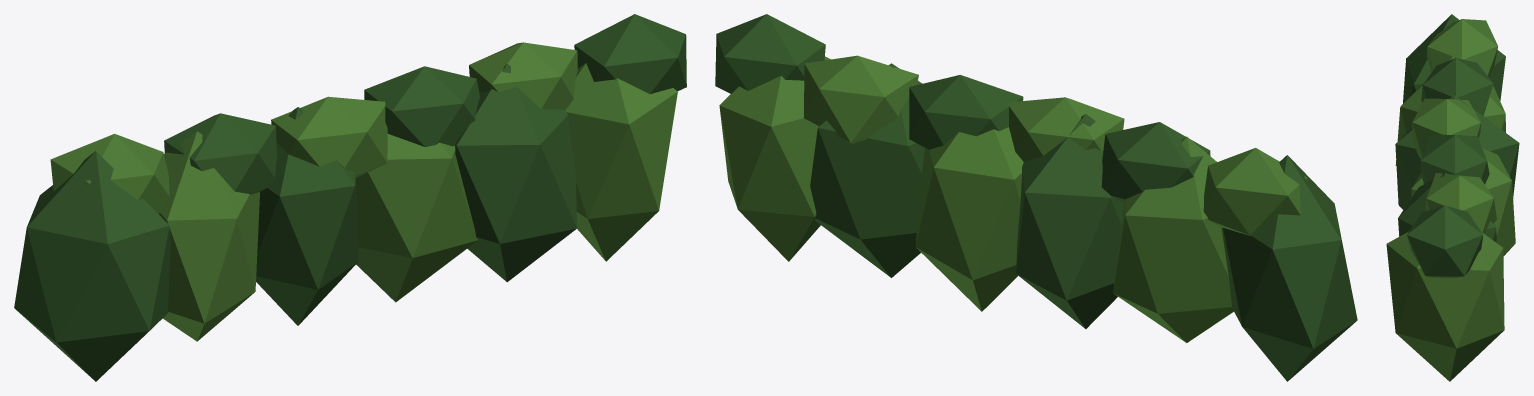
Rendered from UM_Hecke_4m.fbx.
The picture shows the model from 3 angles, left to right: view 1: azimuth 30°, elevation 25°; view 2: azimuth 150°, elevation 25°; view 3: azimuth 270°, elevation 25°; orthographic projection. The views are drawn at different scales.
Parts seen in each view (by area): view 1: UM_Hecke_4m; view 2: UM_Hecke_4m; view 3: UM_Hecke_4m.
Part boxes in pixels (box(x1,y1,x2,y2)): UM_Hecke_4m: box(14, 14, 686, 381); UM_Hecke_4m: box(715, 14, 1357, 381); UM_Hecke_4m: box(1386, 14, 1519, 381).
Size of the model in its own units: 5.09 by 1.83 by 1.19.
